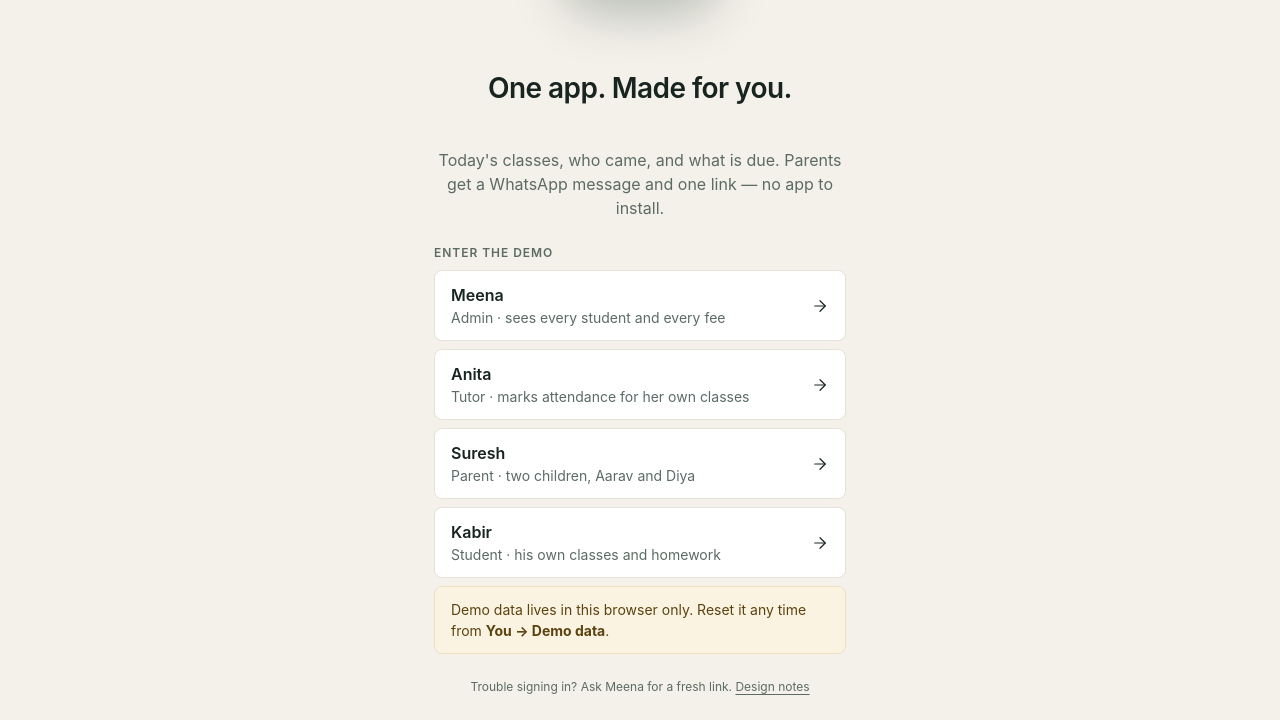
Test case: classes and the calendar › offers a parent a calendar, and explains that the demo has no live feed
(page scrolled)
Click the button "Suresh Parent · two children, Aarav and Diya": (478, 453) top-left (434, 428), bottom-right (846, 499)
(page scrolled)
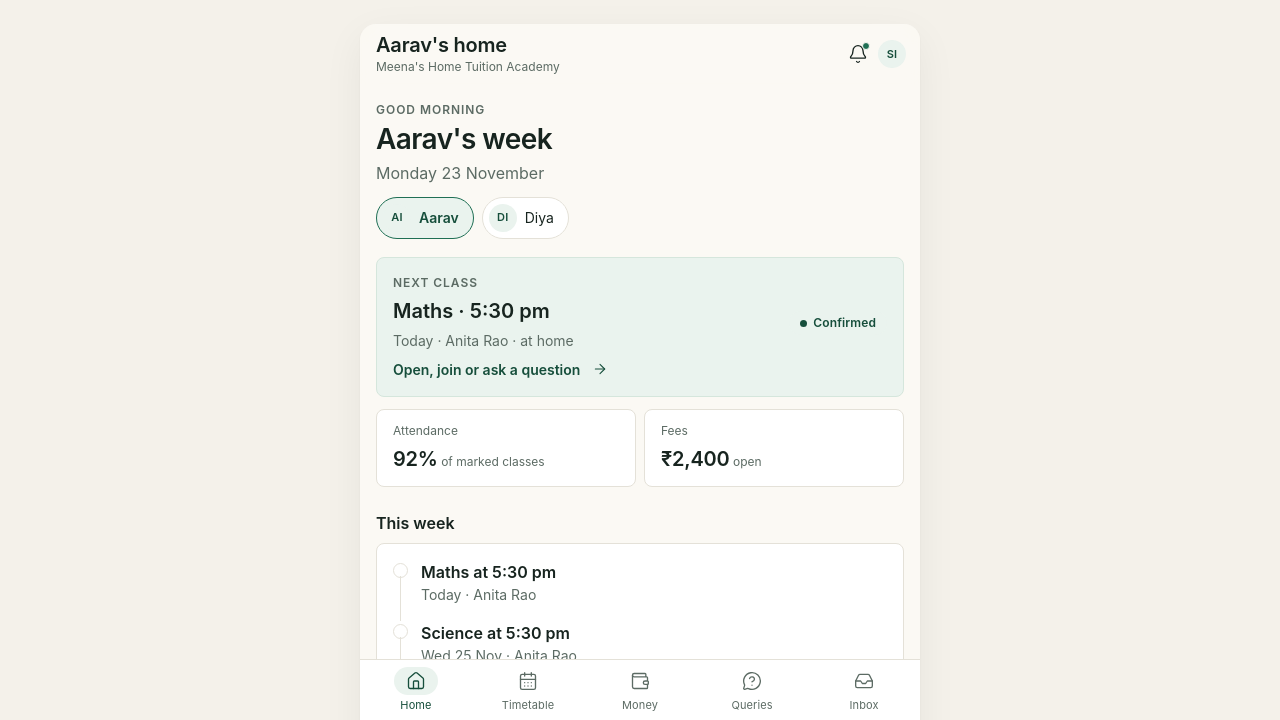
Click the link with aria-label "Your account": (892, 54) top-left (878, 40), bottom-right (906, 68)
(page scrolled)
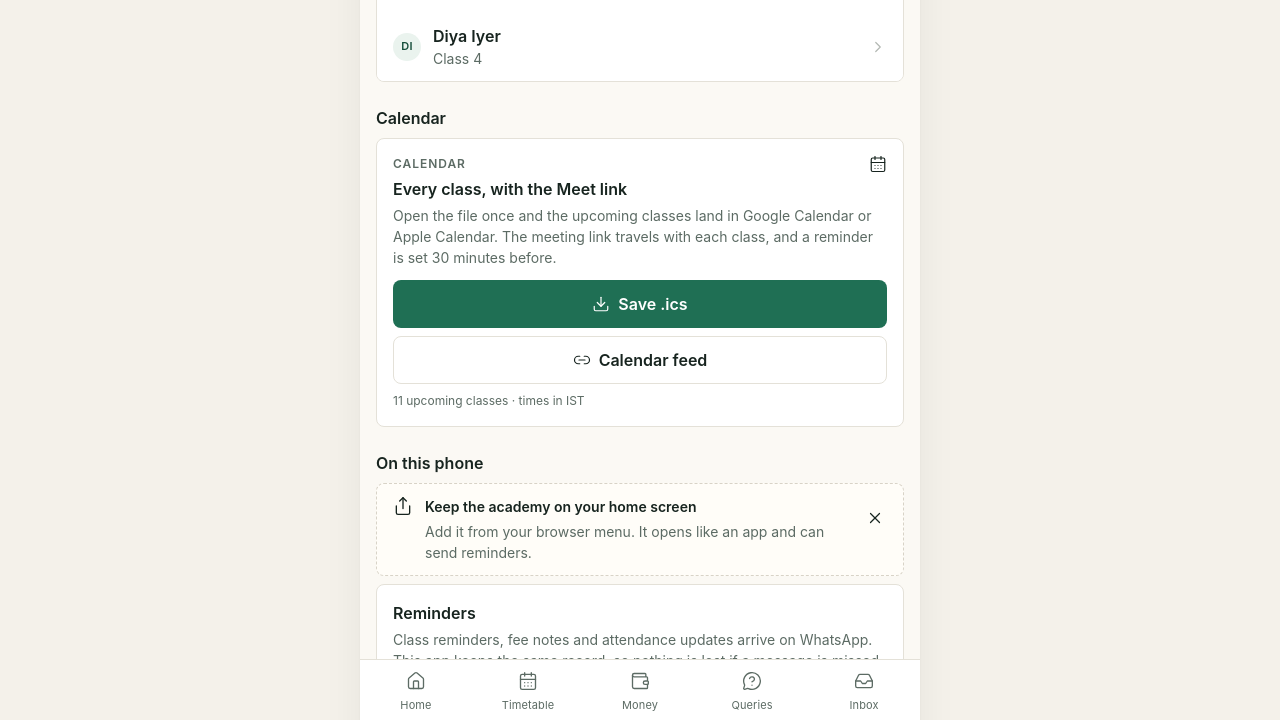
Expected: the text "Every class, with the Meet link" is shown, top-left (393, 179), bottom-right (627, 199)
Click the button "Calendar feed": (640, 360) top-left (393, 336), bottom-right (887, 384)
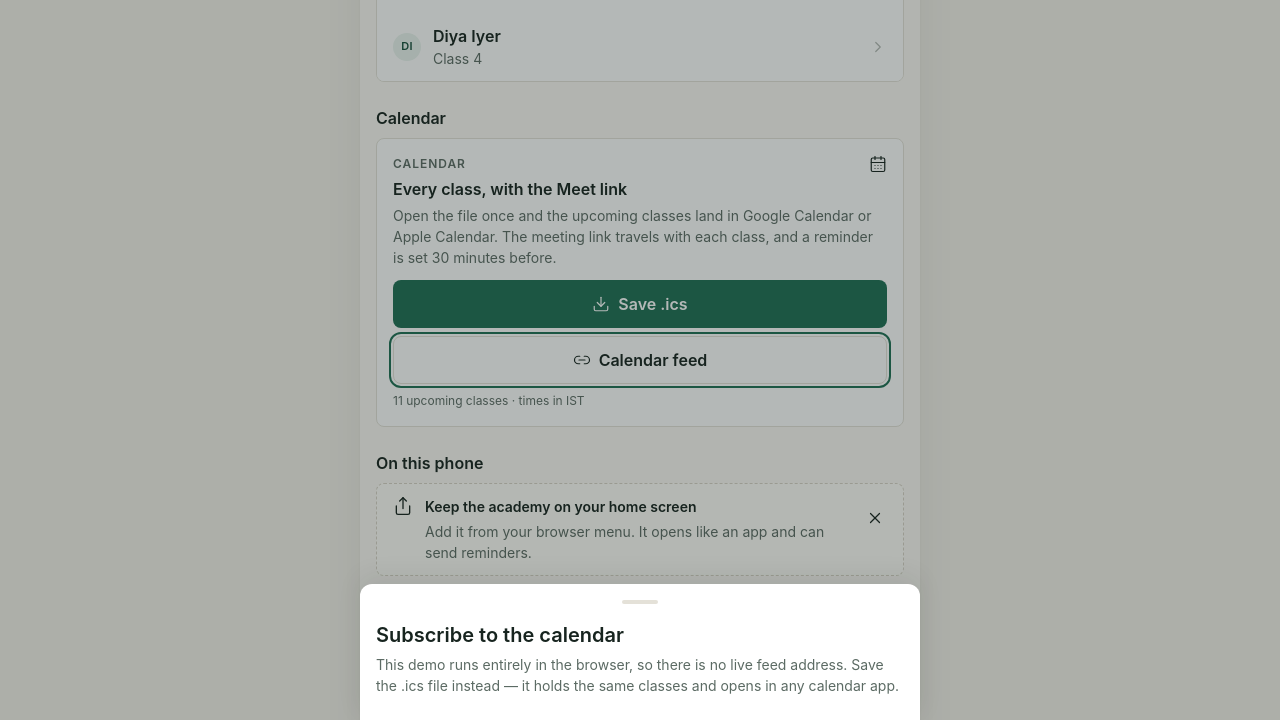
Expected: the text "no live feed address" is shown, top-left (376, 656), bottom-right (899, 694)
